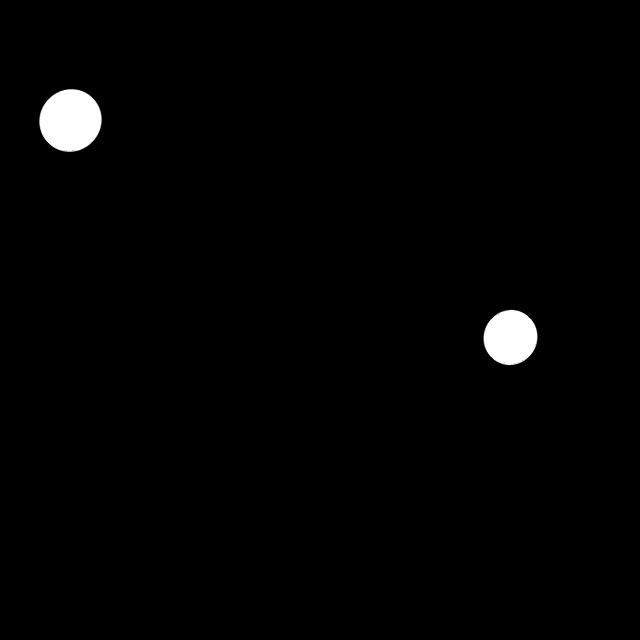Circle: (33, 84, 110, 161), (479, 304, 543, 370)
